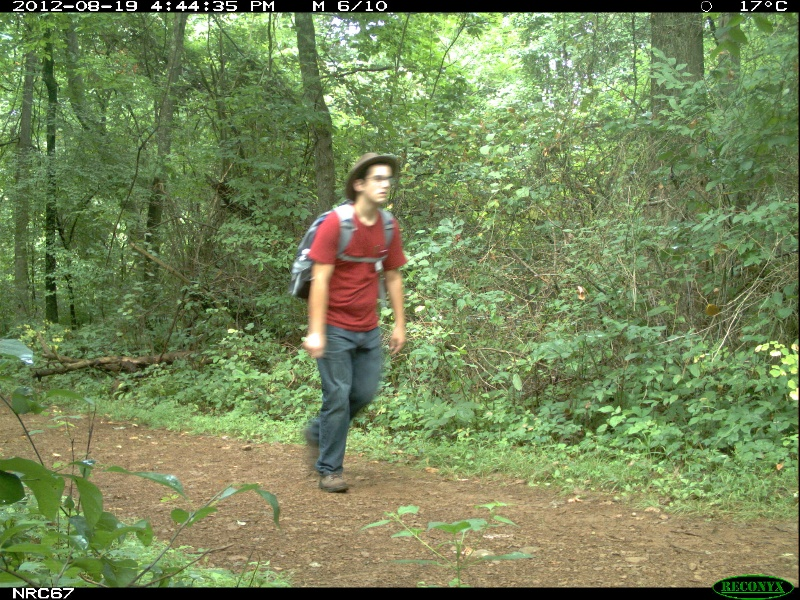human: (305, 155, 409, 496)
human face: (354, 166, 398, 213)
human legs: (306, 312, 382, 487)
